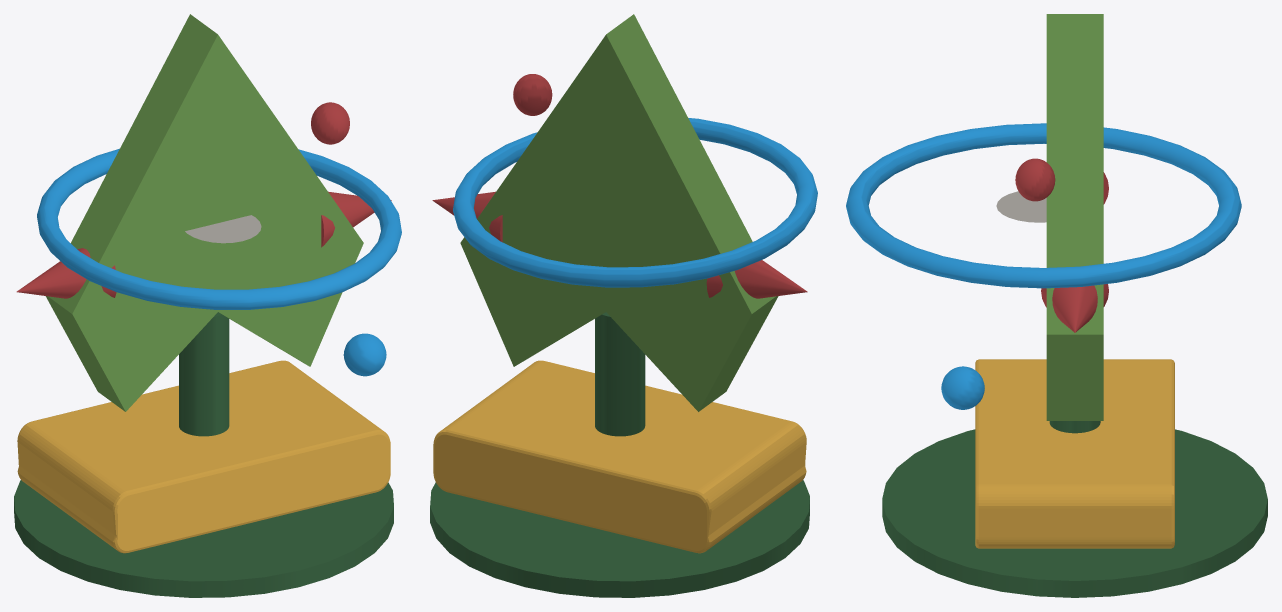
The model's file is 1323_中国古代寓言_扁鹊针灸画像石.glb.
The picture shows the model from 3 angles, left to right: view 1: azimuth 30°, elevation 25°; view 2: azimuth 150°, elevation 25°; view 3: azimuth 270°, elevation 25°; orthographic projection.
Visible parts, largest first — view 1: card_1323; view 2: card_1323; view 3: card_1323.
Boxes of the visible parts, x1,y1,x2,y2 form: card_1323: [14, 14, 401, 597]; card_1323: [430, 14, 817, 597]; card_1323: [846, 14, 1267, 597].
Size of the model in its own units: 0.7974 by 1 by 0.7616.
